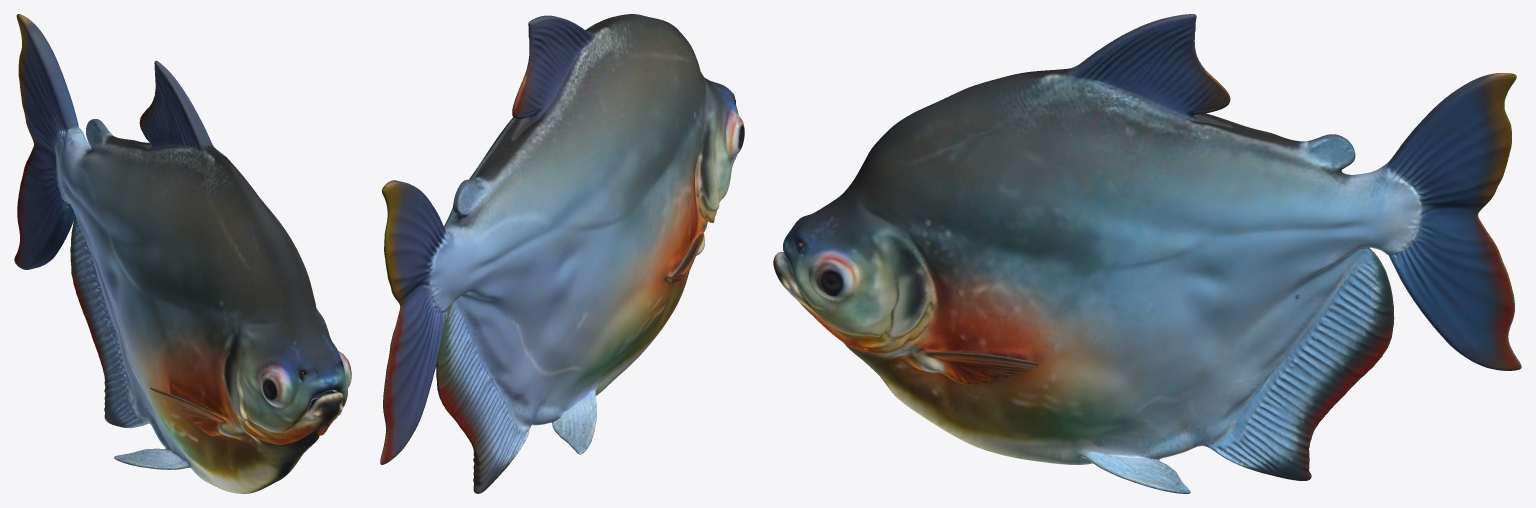
The model's file is n3__silverdollar.glb.
3 renders of one model, left to right at view 1: azimuth 30°, elevation 25°; view 2: azimuth 150°, elevation 25°; view 3: azimuth 270°, elevation 25°, orthographic. The views are drawn at different scales.
Parts seen in each view (by area): view 1: Object_4, Object_5, Object_6; view 2: Object_5, Object_4, Object_6; view 3: Object_4, Object_5, Object_6.
Boxes of the visible parts, box(x1,y1,x2,y2) form: Object_4: box(17, 92, 351, 493); Object_5: box(14, 14, 193, 469); Object_6: box(92, 60, 168, 464); Object_5: box(380, 15, 626, 493); Object_4: box(383, 14, 744, 456); Object_6: box(500, 18, 600, 461); Object_4: box(773, 30, 1514, 485); Object_5: box(1103, 15, 1521, 491); Object_6: box(1155, 14, 1261, 493).
Size of the model in its own units: 0.5088 by 1.3 by 1.9.
1 material, 1 textured.
